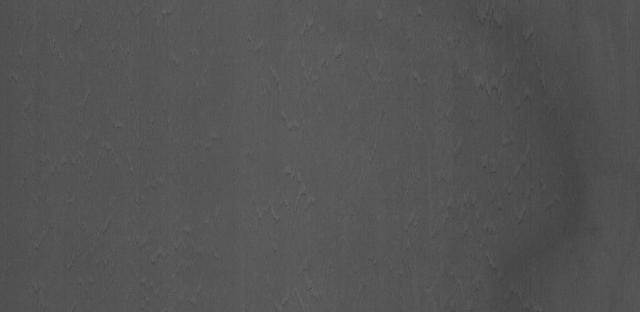silk_spot: (459, 49, 558, 212), (262, 26, 349, 90)
